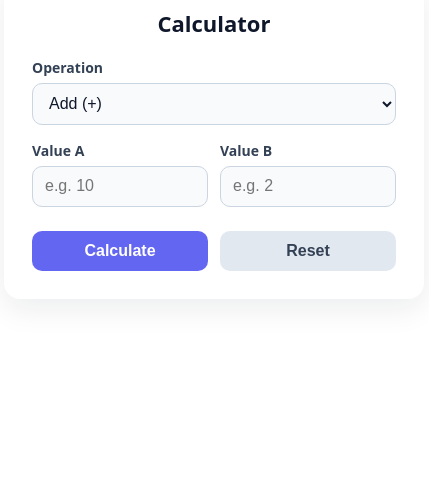
Test: <Calculator /> › submits values and displays the result returned by the API
Type "40" into the number field labelled "Value A" at {"x": 120, "y": 186}, box [32,166,208,207]
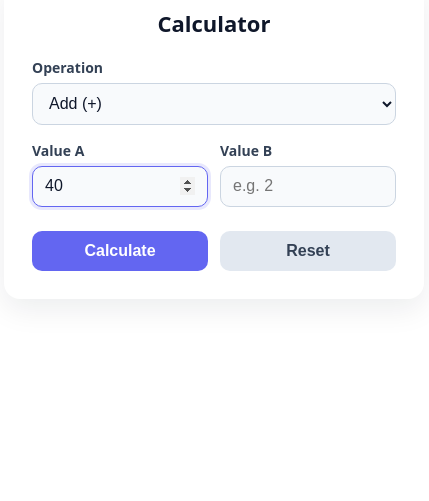
Type "2" into the number field labelled "Value B" at {"x": 308, "y": 186}, box [220,166,396,207]
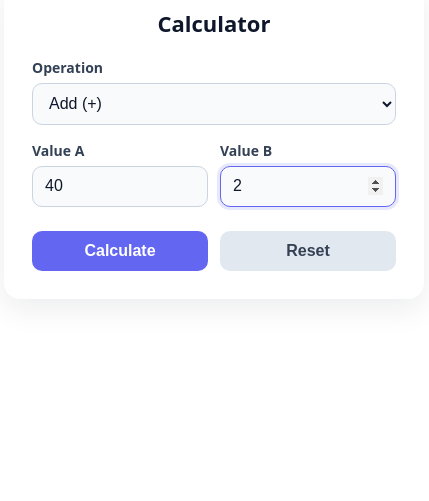
Click the button "Calculate" at {"x": 120, "y": 251}, box [32,231,208,271]
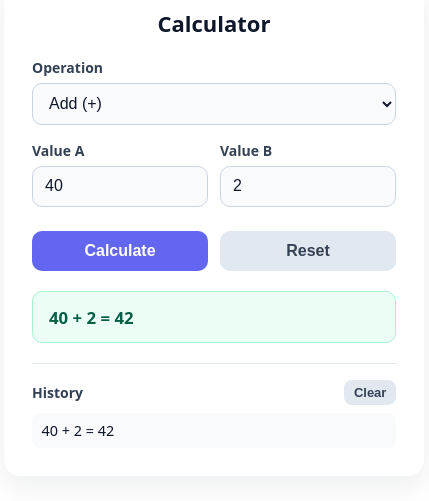
Check: the message shows "42", box [49,306,134,328]
